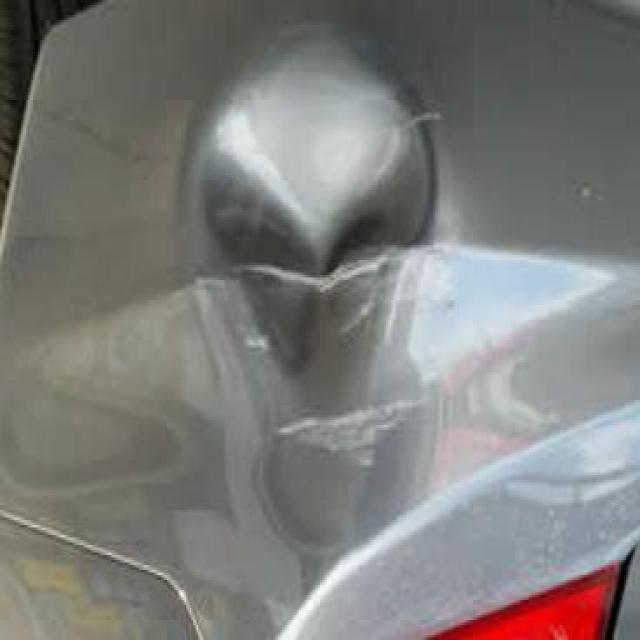dent: (170, 16, 463, 506)
